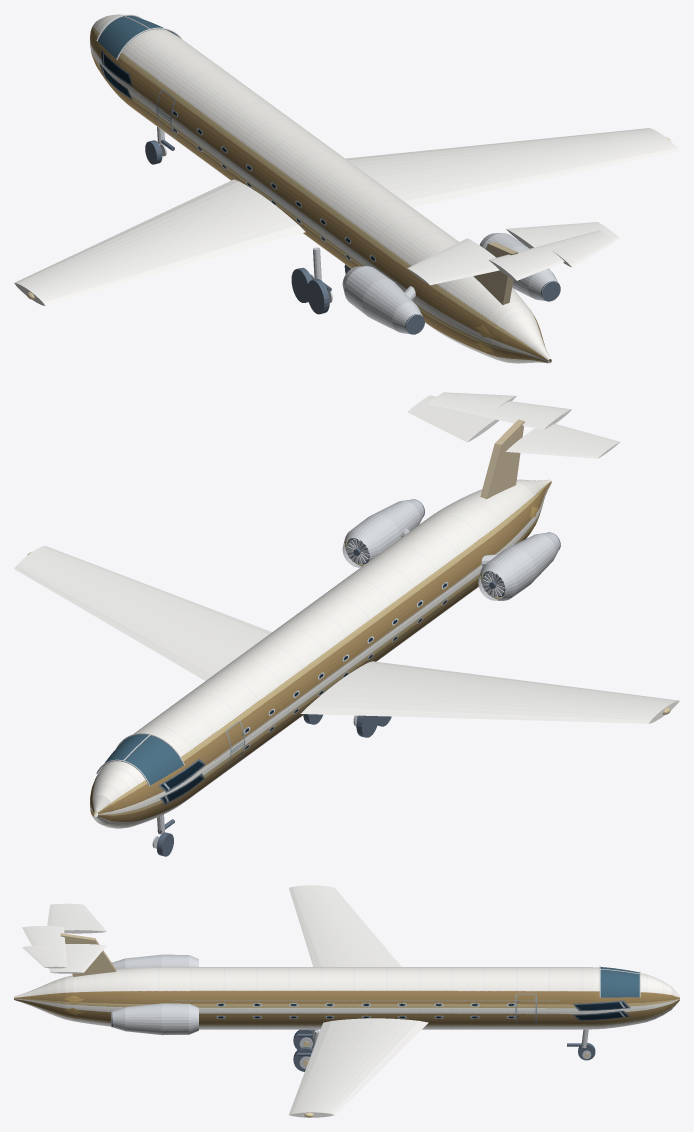
Rendered from 02_executive_business_jet.glb.
3 renders of one model, top to bottom at view 1: azimuth 30°, elevation 25°; view 2: azimuth 150°, elevation 25°; view 3: azimuth 270°, elevation 25°, orthographic. The views are drawn at different scales.
Parts seen in each view (by area): view 1: textured_airframe, body-details, metal-details, landing_gear_dark, glass-details, accent-details, dark-details; view 2: textured_airframe, body-details, metal-details, glass-details, accent-details, landing_gear_dark; view 3: textured_airframe, body-details, metal-details, glass-details, accent-details, landing_gear_dark, landing_gear_metal.
Part boxes in pixels (x1,y1,x2,y2): textured_airframe: (90,14,551,363); body-details: (14,128,679,305); metal-details: (96,14,560,334); landing_gear_dark: (145,139,350,314); glass-details: (98,16,176,58); accent-details: (27,242,518,304); dark-details: (405,280,560,334); textured_airframe: (90,479,551,828); body-details: (14,392,679,723); metal-details: (96,499,559,786); glass-details: (99,734,183,785); accent-details: (480,419,670,714); landing_gear_dark: (156,714,391,856); textured_airframe: (14,967,679,1029); body-details: (22,885,428,1117); metal-details: (111,954,640,1035); glass-details: (600,967,639,997); accent-details: (60,933,116,976); landing_gear_dark: (293,1029,595,1071); landing_gear_metal: (299,1029,591,1068).
Size of the model in its own units: 23.26 by 6.06 by 28.5.
Materials: 10 (1 with a texture image).
